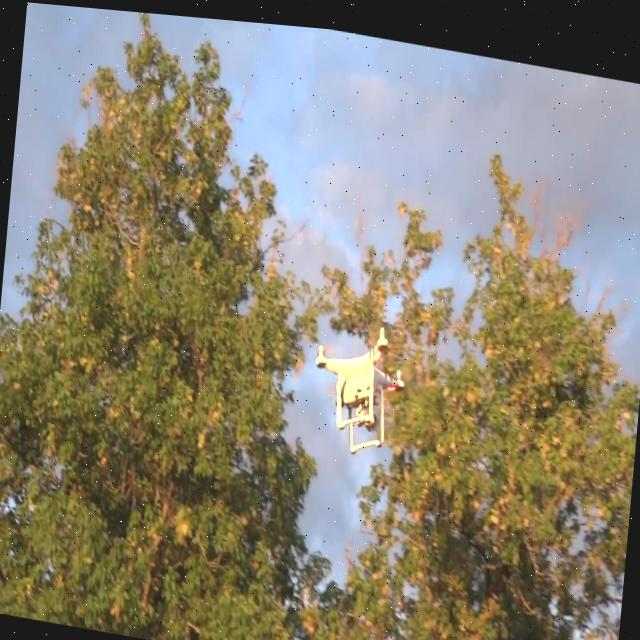drone: (304, 306, 410, 455)
